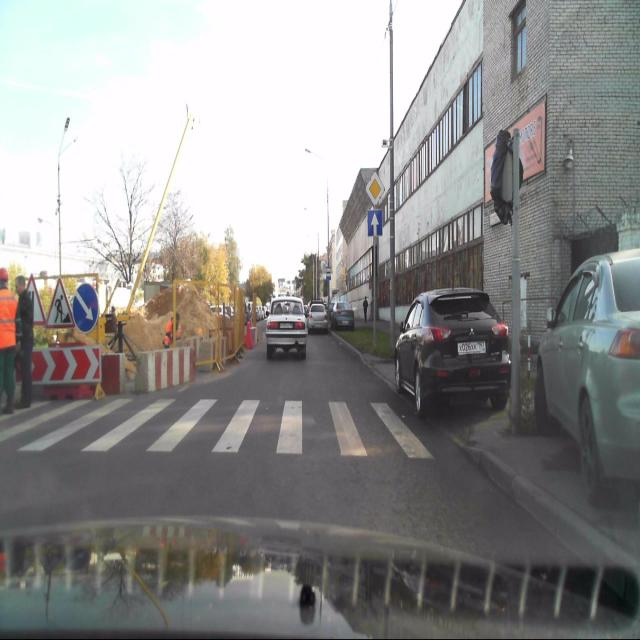road sign: (44, 279, 74, 331), (366, 172, 384, 208), (366, 208, 385, 238)
